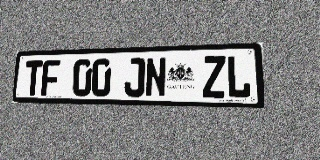0: (91, 59, 111, 97), (72, 59, 92, 96)
F: (41, 60, 60, 96)
J: (124, 58, 145, 97)
L: (226, 55, 251, 98)
N: (145, 57, 166, 97)
T: (24, 60, 43, 96)
Z: (202, 56, 226, 98)
